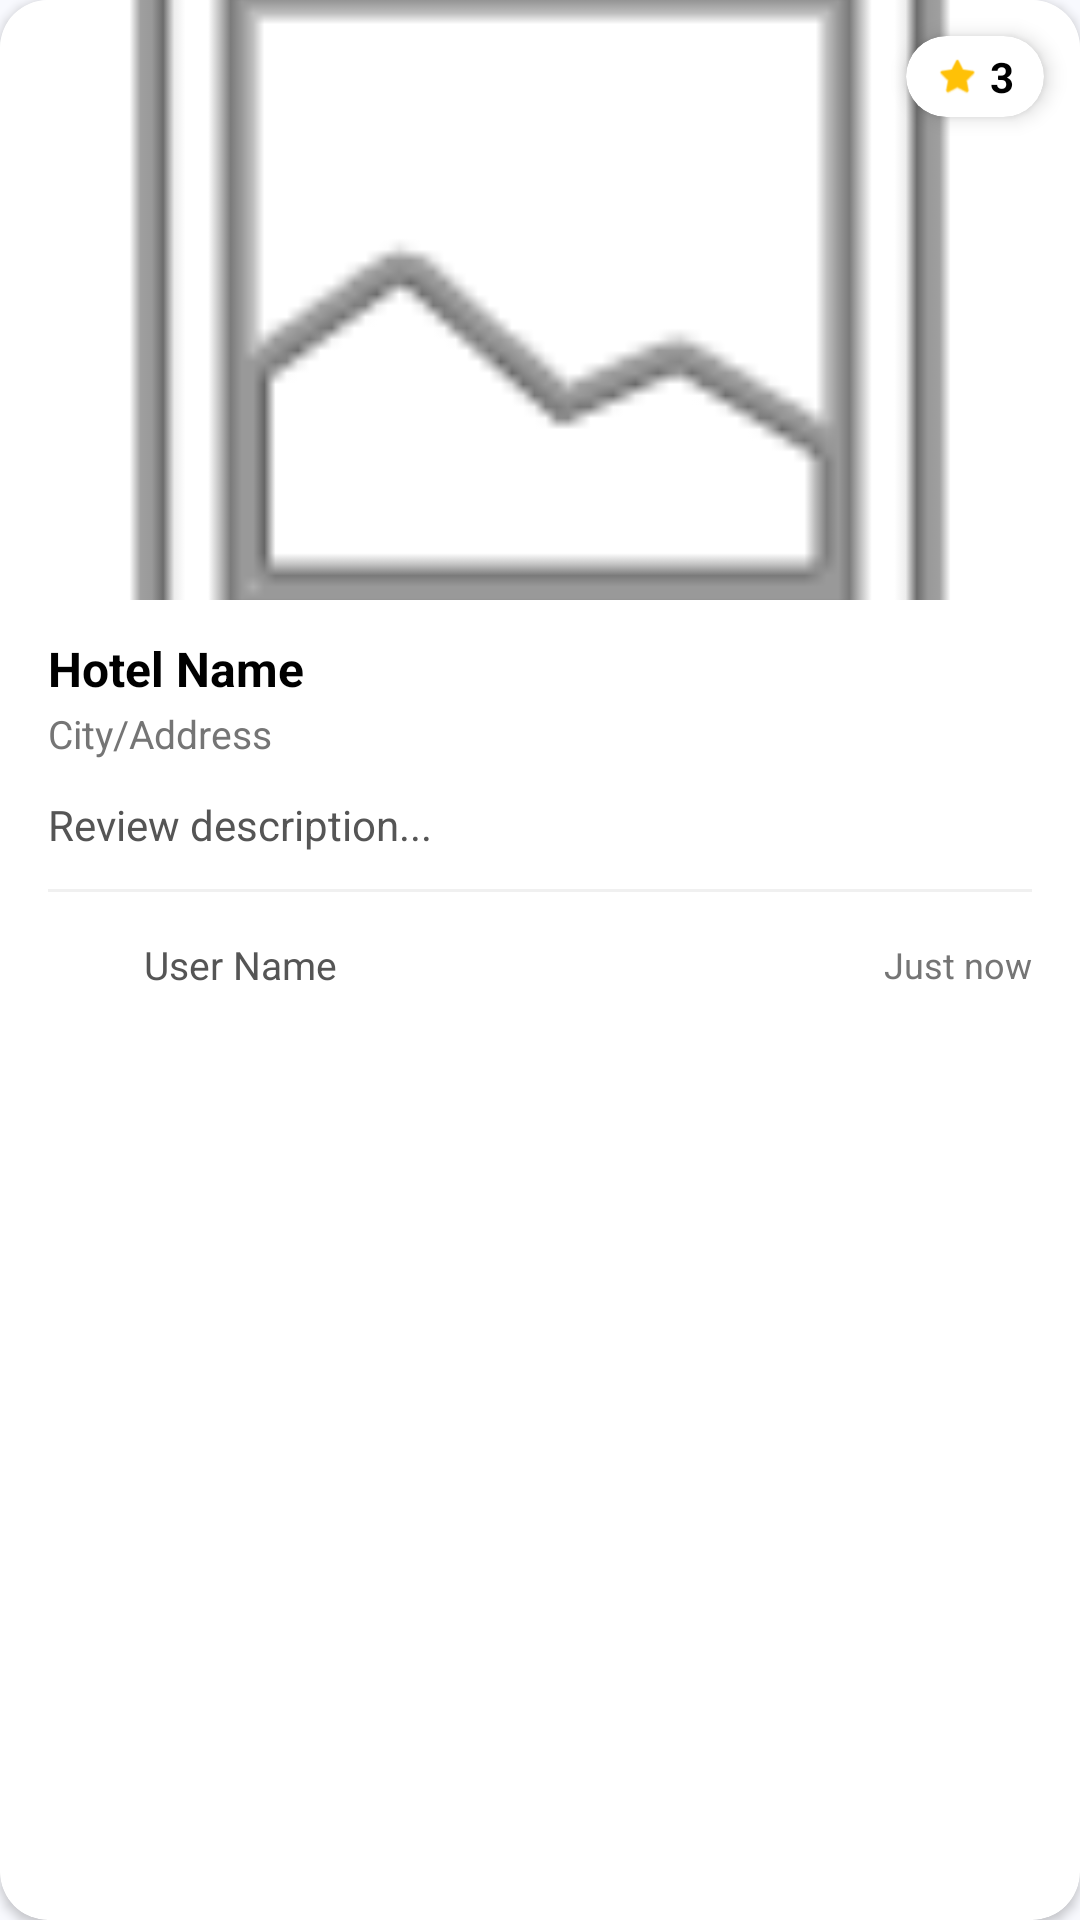

Named icons in this screenshot (1080*1920) and their centers, (x=x, y=y):
star on: (x=957, y=76)
